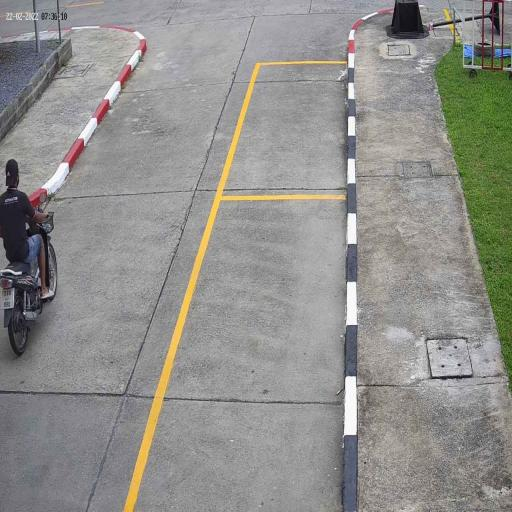motorcycle: (0, 240, 60, 359)
